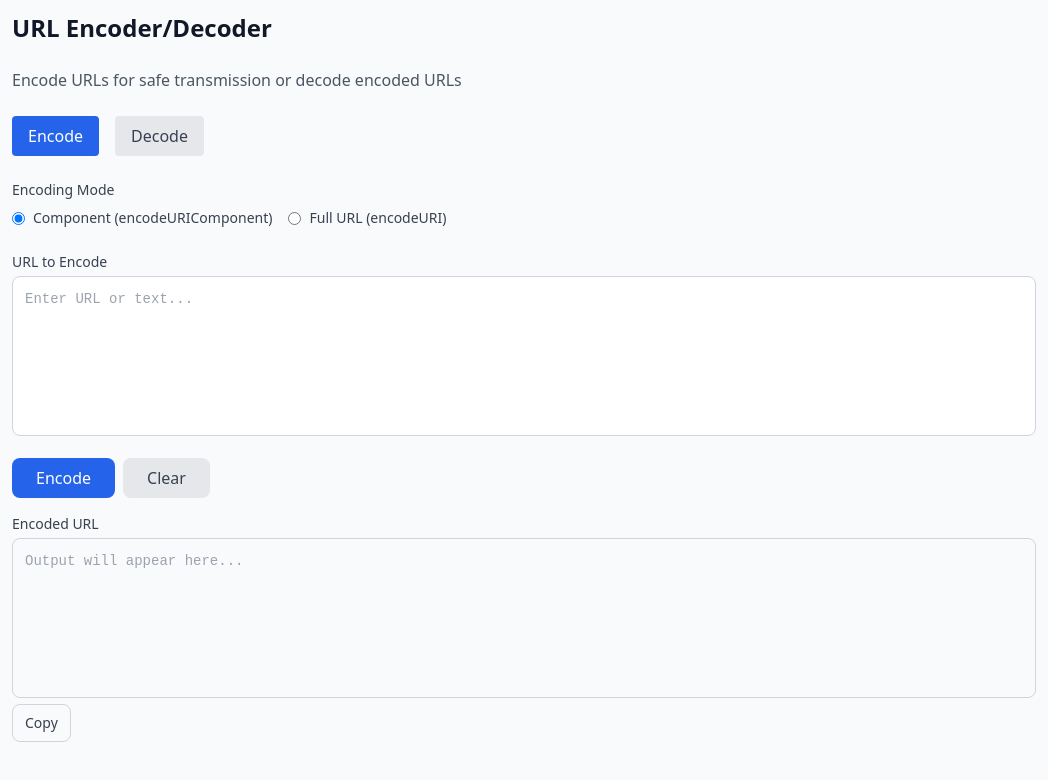
Test: UrlEncoderDecoder › encodes URL component
Type "hello world" into the text box labelled "URL to Encode". click: (524,356)
box: [12,276,1036,436]
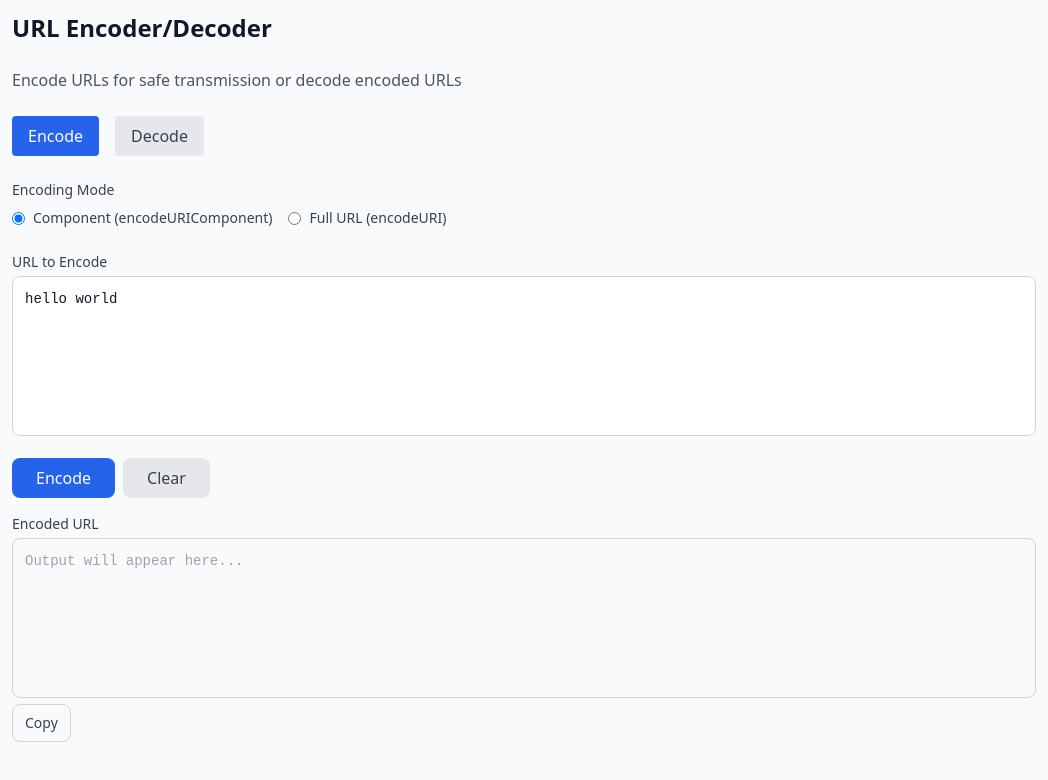
Click the button "Encode" below "URL to Encode". click: (64,478)
box: [12,458,115,498]
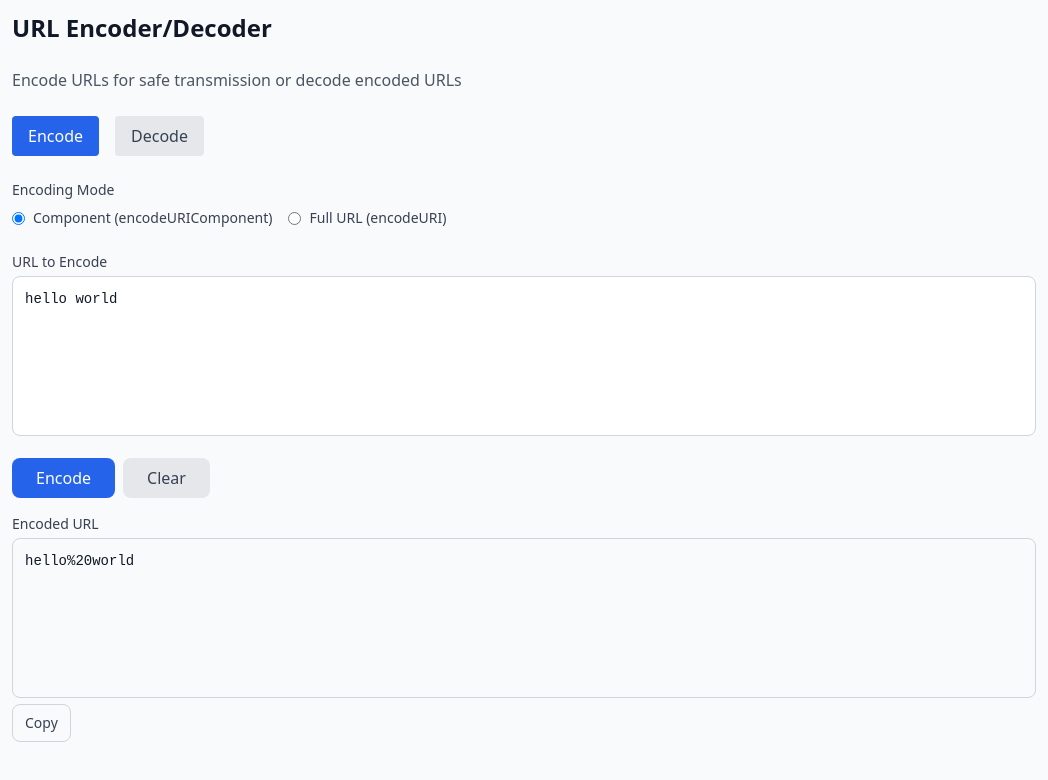
expect the text box labelled "Encoded URL" holds "hello%20world": met, box [12,538,1036,698]
